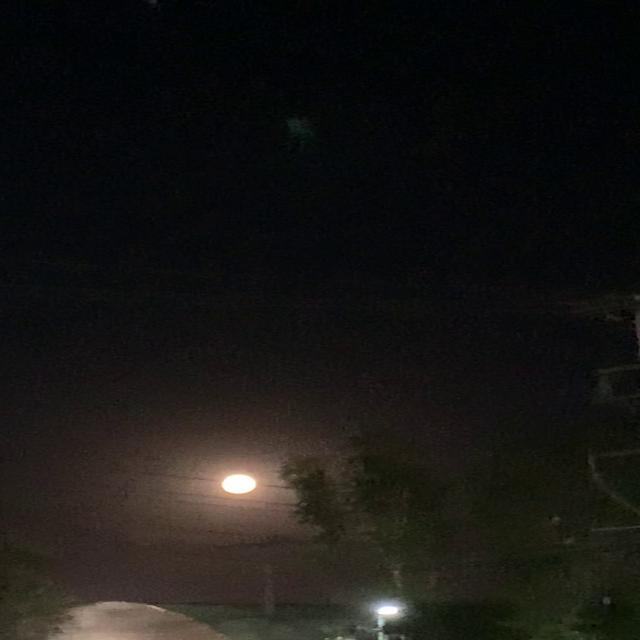moon: (218, 470, 270, 496)
